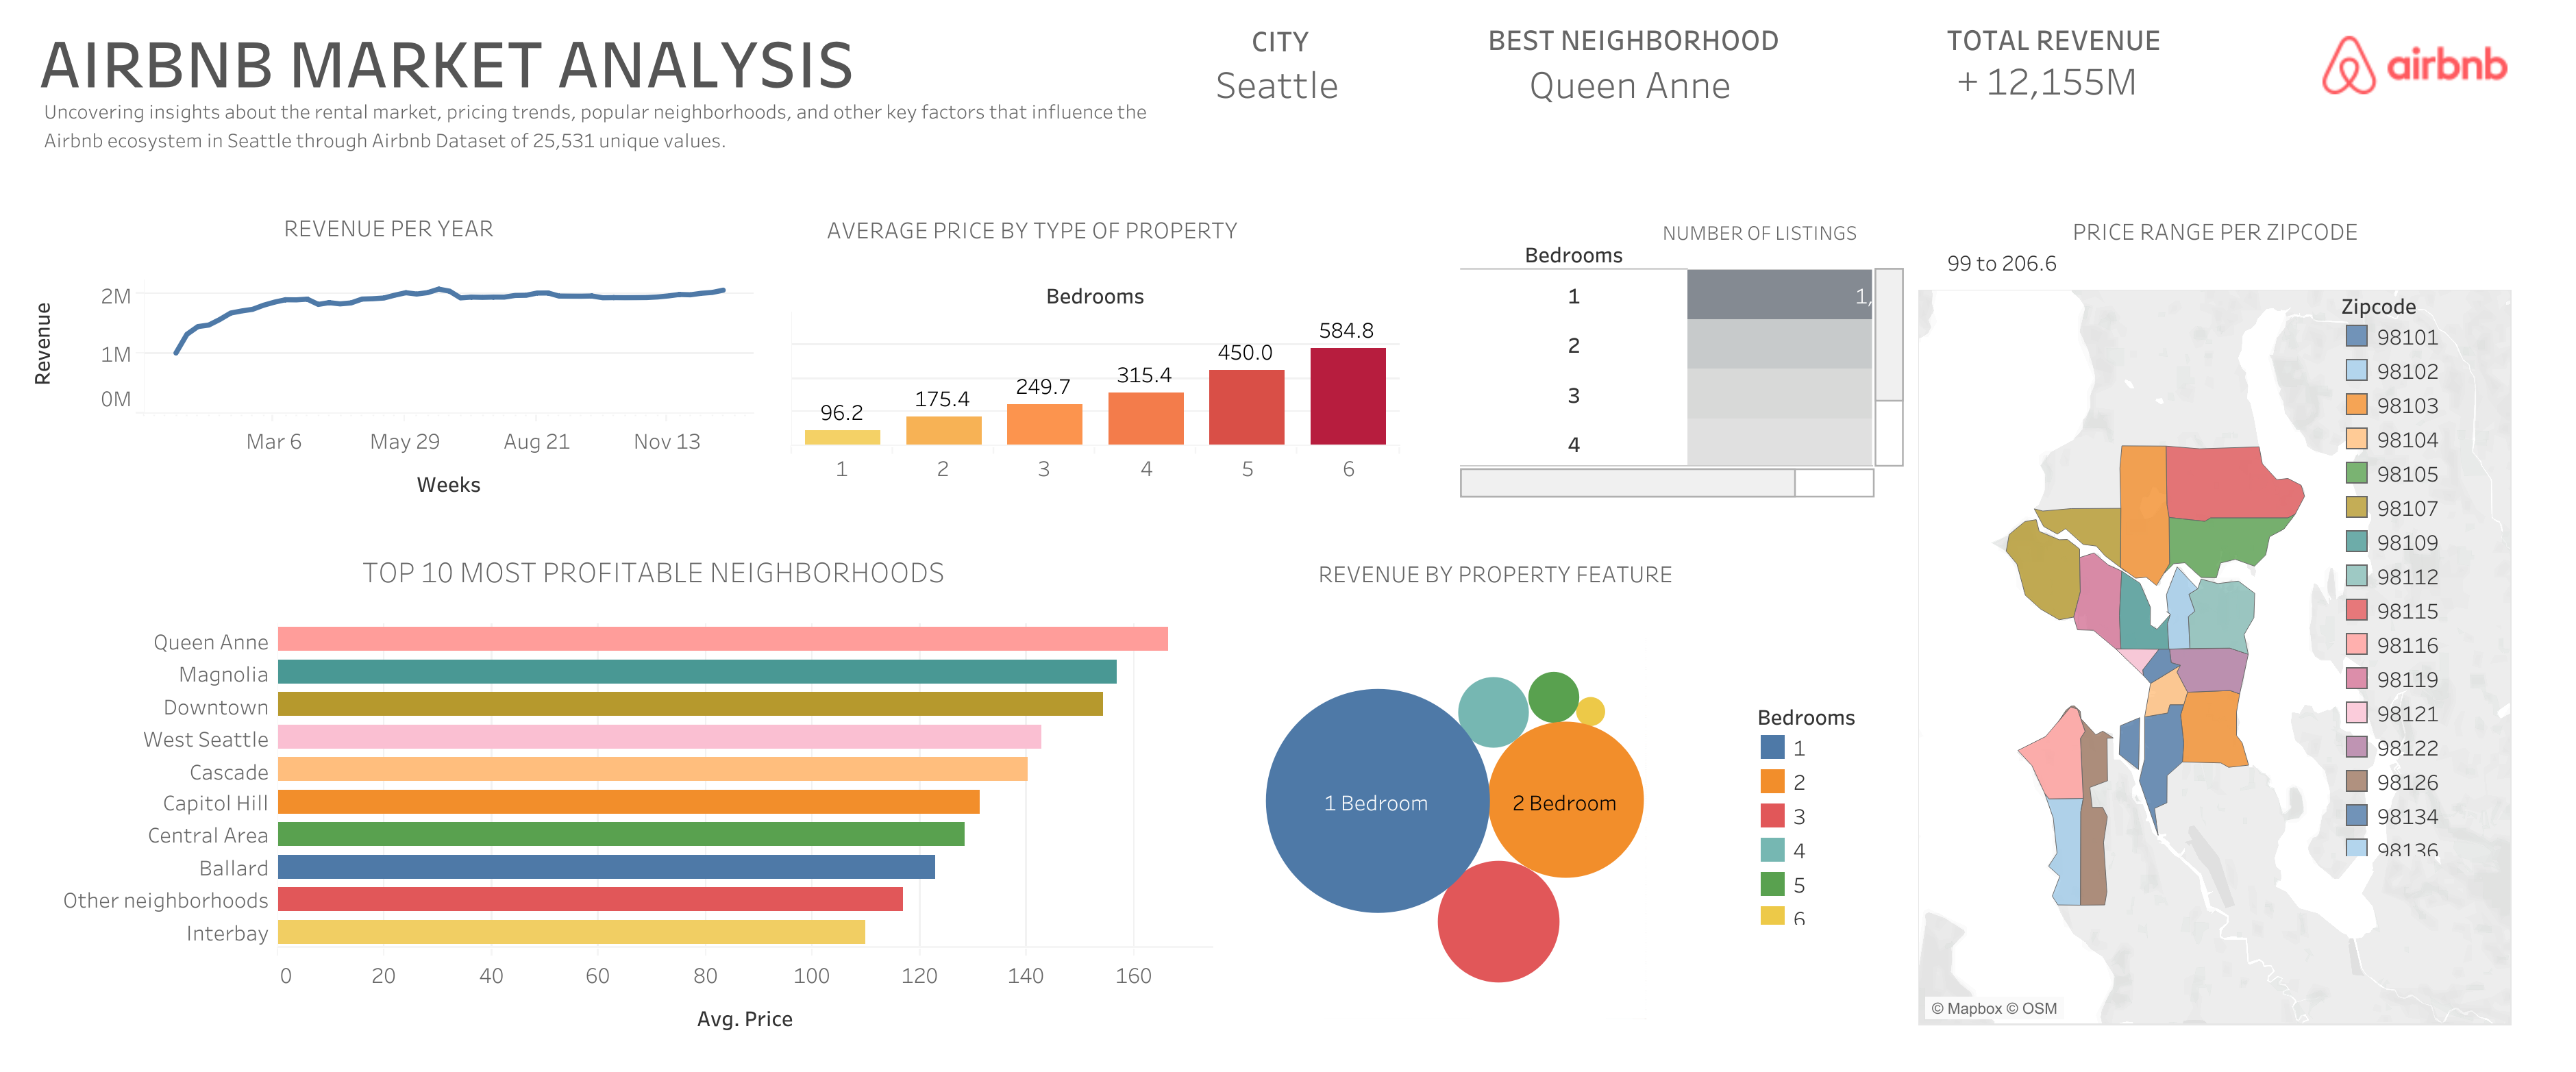

What the dashboard file says about the page in this screenshot:
{"tool":"tableau","page":{"name":"Dashboard 1","canvas":[1000,1000],"units":"permille","ordinal":0},"visuals":[{"type":"text","box":[10.3,9.3,968.6,75.4]},{"type":"text","box":[575.7,13.9,136.4,42.9]},{"type":"text","box":[753.2,16.2,104.4,38.3]},{"type":"text","box":[483.4,19.7,60.4,34.8]},{"type":"image","param":"C:/Users/gusta/Downloads/airbnb.svg","box":[901,33.6,80.3,54.5]},{"type":"text","box":[757.4,42.9,94.2,60.3]},{"type":"text","box":[593.2,49.9,126.1,55.7]},{"type":"text","box":[469.5,54.5,60.4,44.1]},{"type":"text","box":[15.1,68.5,431.5,95.1]},{"type":"text","box":[86.9,191.4,105.6,40.6]},{"type":"text","box":[564.9,192.6,167.8,34.8]},{"type":"filter","title":"Sheet 2","param":"[federated.1baq3pa1vt4eeg13td9v10gec5nh].[avg:price:qk]","box":[761,192.6,212.4,67.3]},{"type":"text","box":[319.2,194.9,193.7,34.8]},{"type":"worksheet","title":"Sheet 4","mark":"Circle","box":[565.5,221.6,132.8,247.1]},{"type":"worksheet","title":"Sheet 5","mark":"Automatic","rows":["price"],"cols":["bedrooms"],"box":[282.4,234.3,260.1,215.8]},{"type":"worksheet","title":"Sheet 3","mark":"Automatic","rows":["price (Calendar)"],"cols":["date"],"box":[5.4,235.5,256.5,240.1]},{"type":"worksheet","title":"Sheet 2","mark":"Multipolygon","box":[753.8,245.9,220.9,404.9]},{"type":"legend","title":"Sheet 4","param":"[federated.1baq3pa1vt4eeg13td9v10gec5nh].[none:bedrooms:ok]","box":[695.8,254.1,43.5,212.3]},{"type":"legend","title":"Sheet 2","param":"[federated.1baq3pa1vt4eeg13td9v10gec5nh].[none:zipcode:ok]","box":[907.7,266.8,65.2,365.4]},{"type":"text","box":[242.6,502.3,267.9,48.7]},{"type":"worksheet","title":"Sheet 1","mark":"Automatic","rows":["neighbourhood_group_cleansed"],"cols":["price"],"box":[14.5,556.8,705.5,415.3]},{"type":"worksheet","title":"Sheet 6","mark":"Square","rows":["bedrooms"],"box":[750.1,686.8,234.2,290]}]}

Visuals, with their boxes on the dashboard's canvas, which has no fixed pixel size, in thousandths of its width and height (x1, y1, x2, y2). These are canvas units, not pixel positions in the 2576x1072 screenshot, which may show the page scaled, cropped or inside an application window:
text: <box>10,9,979,85</box>
text: <box>576,14,712,57</box>
text: <box>753,16,858,54</box>
text: <box>483,20,544,54</box>
image: <box>901,34,981,88</box>
text: <box>757,43,852,103</box>
text: <box>593,50,719,106</box>
text: <box>470,54,530,99</box>
text: <box>15,68,447,164</box>
text: <box>87,191,192,232</box>
text: <box>565,193,733,227</box>
"Sheet 2" filter: <box>761,193,973,260</box>
text: <box>319,195,513,230</box>
"Sheet 4" worksheet (Circle marks): <box>566,222,698,469</box>
"Sheet 5" worksheet: <box>282,234,542,450</box>
"Sheet 3" worksheet: <box>5,236,262,476</box>
"Sheet 2" worksheet (Multipolygon marks): <box>754,246,975,651</box>
"Sheet 4" legend: <box>696,254,739,466</box>
"Sheet 2" legend: <box>908,267,973,632</box>
text: <box>243,502,510,551</box>
"Sheet 1" worksheet: <box>14,557,720,972</box>
"Sheet 6" worksheet (Square marks): <box>750,687,984,977</box>
